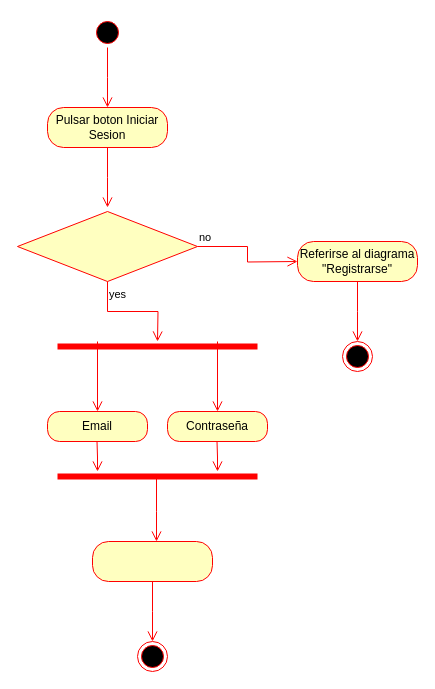
Image size: 435x689. Some labels were removed from this diagram. Here are the shapes that lost their labels. From the top down, the box of each, then its label:
(16, 210, 198, 282): Desea iniciar sesion?
(92, 540, 212, 582): Pulsar botón Inicar Sesion
